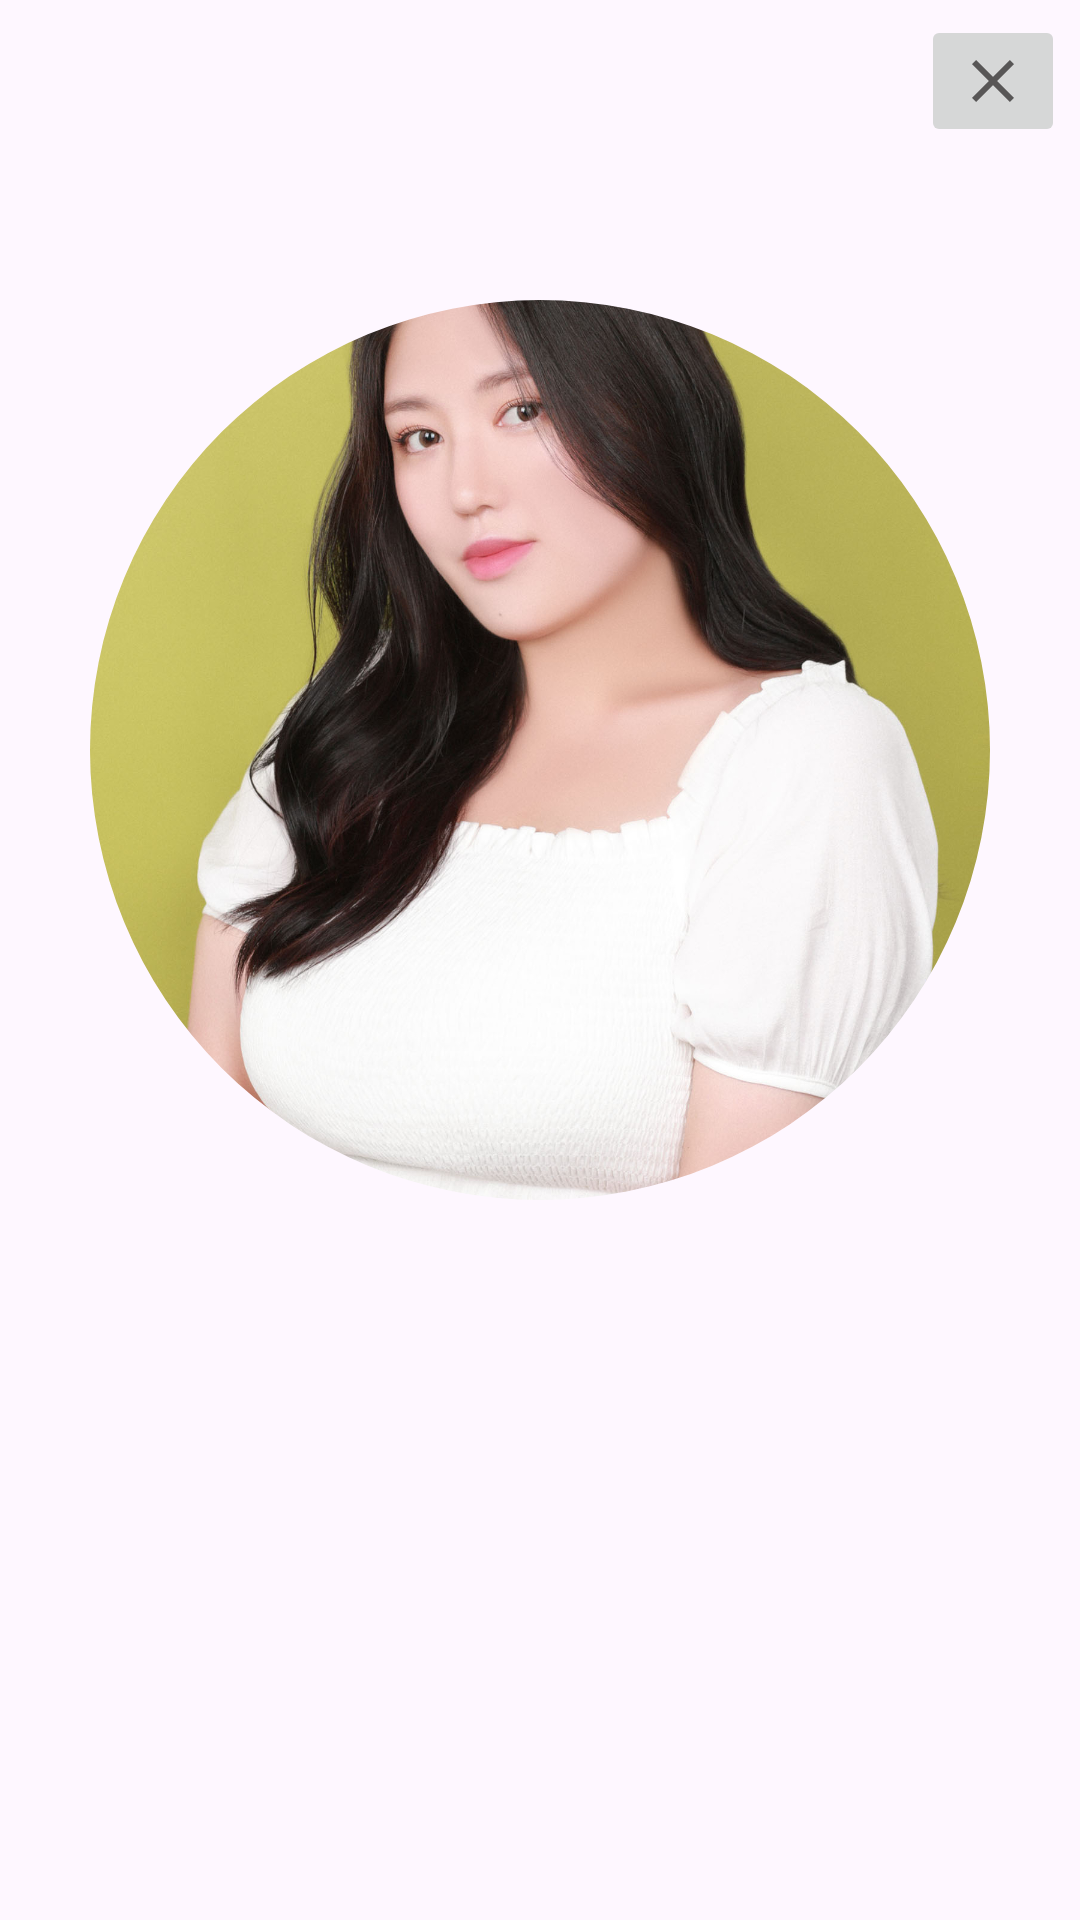

Screen size 1080 x 1920. Icon name, then its center in pixels as point (x, y):
close: point (993, 81)
